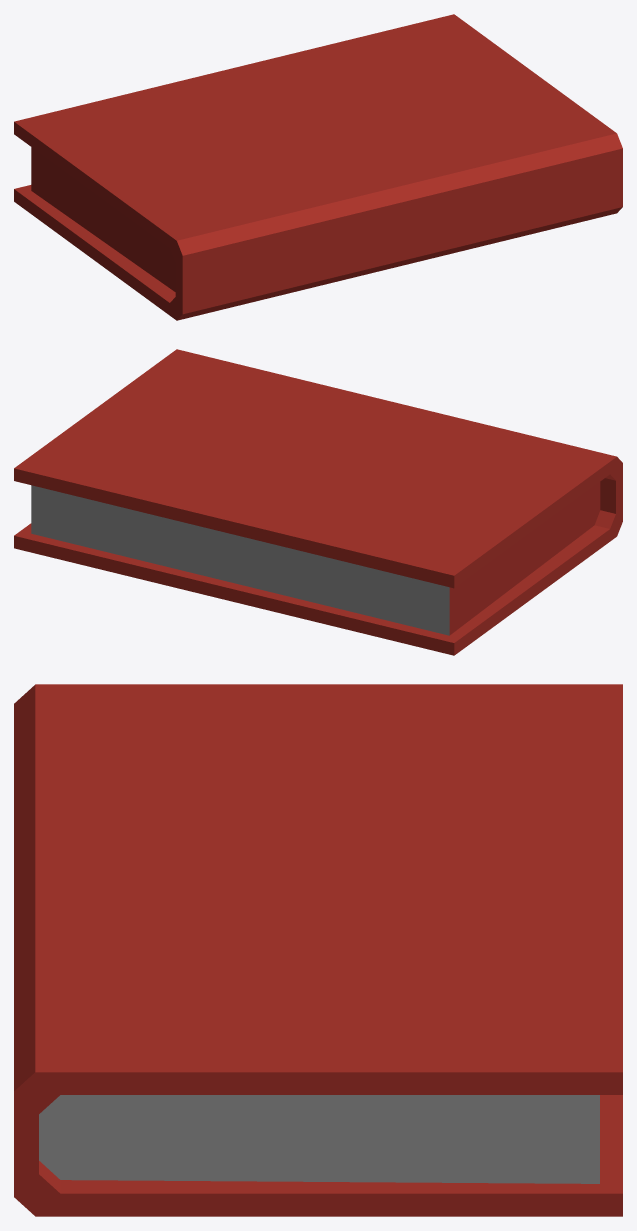
The model's file is Book.FBX.
The picture shows the model from 3 angles, top to bottom: view 1: azimuth 30°, elevation 25°; view 2: azimuth 150°, elevation 25°; view 3: azimuth 270°, elevation 25°; orthographic projection. The views are drawn at different scales.
Parts seen in each view (by area): view 1: Box001; view 2: Box001; view 3: Box001.
Part boxes in pixels (x1,y1,x2,y2): Box001: (14, 14, 622, 320); Box001: (14, 349, 622, 655); Box001: (14, 684, 622, 1216).
Bounding box in the file's own units: 11.38 × 1.98 × 7.55.
